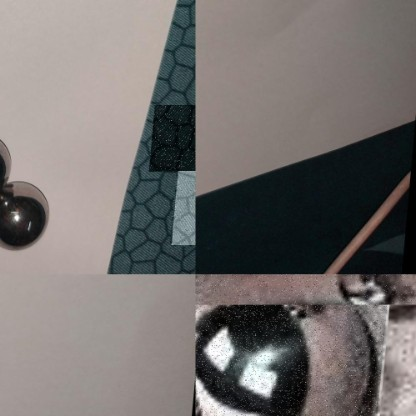ironball: (195, 277, 390, 415), (195, 274, 415, 304), (0, 181, 50, 259), (0, 125, 19, 180)
